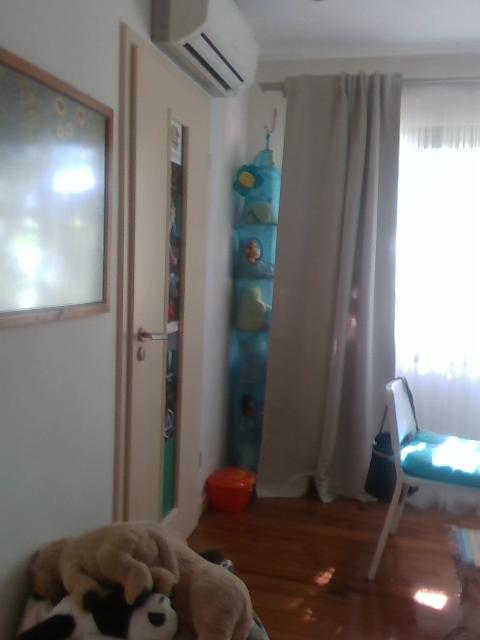door: (131, 43, 201, 543)
